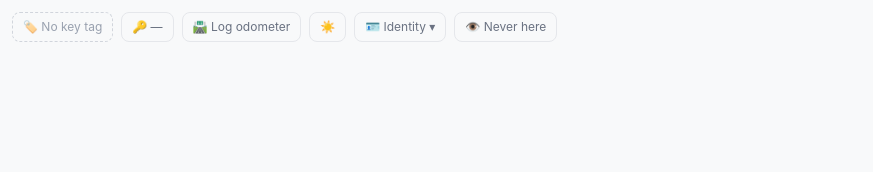
Test: the VIN chip on the record › is quiet when the VIN agrees with the year
Step 1. Click the button "🪪 Identity ▾" → {"x": 400, "y": 27}, box [354,12,446,42]
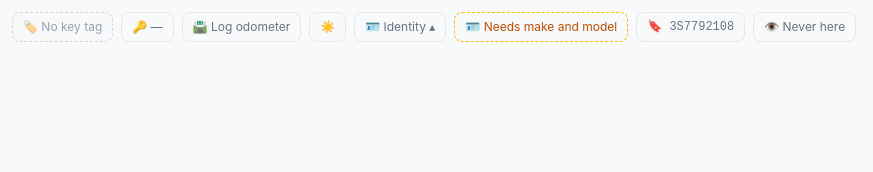
Check: the text "🔖 3S7792108" is shown, box [636,12,745,42]
